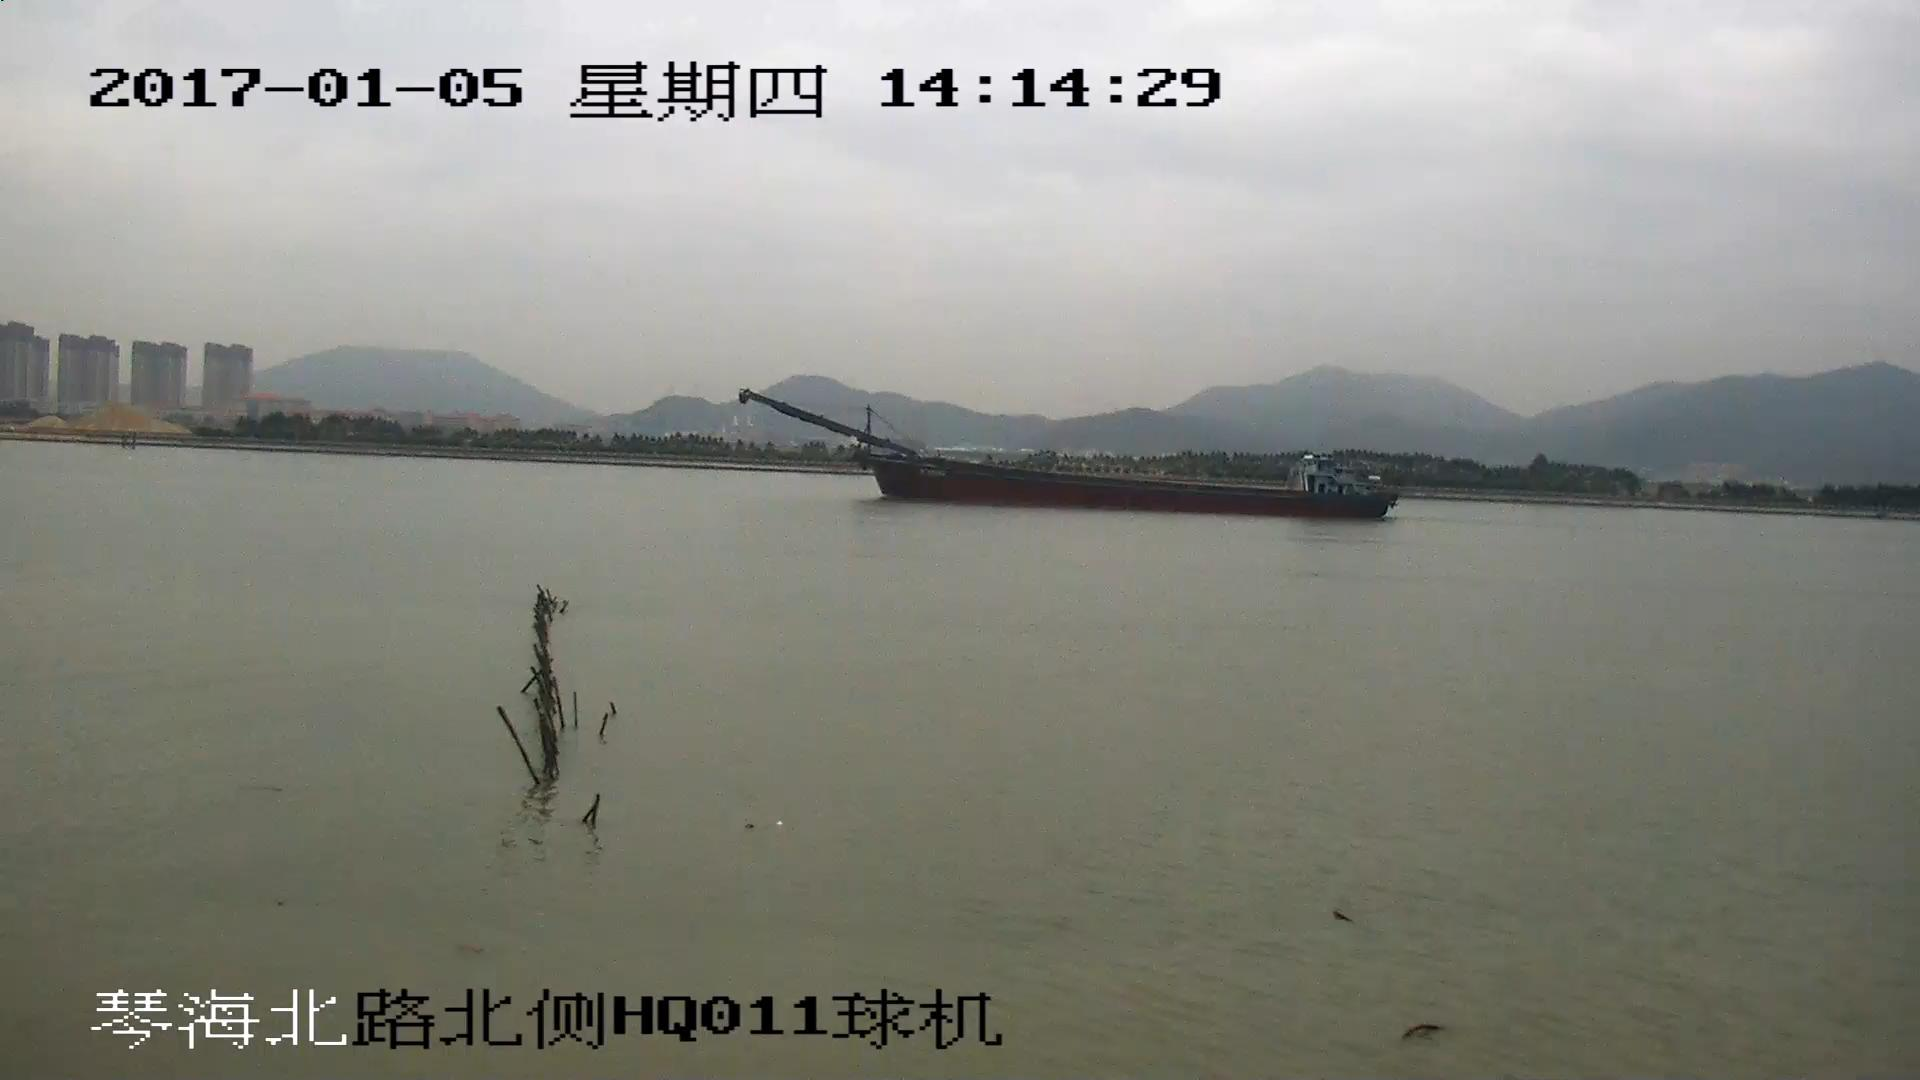Ship: (742, 392, 1395, 521)
